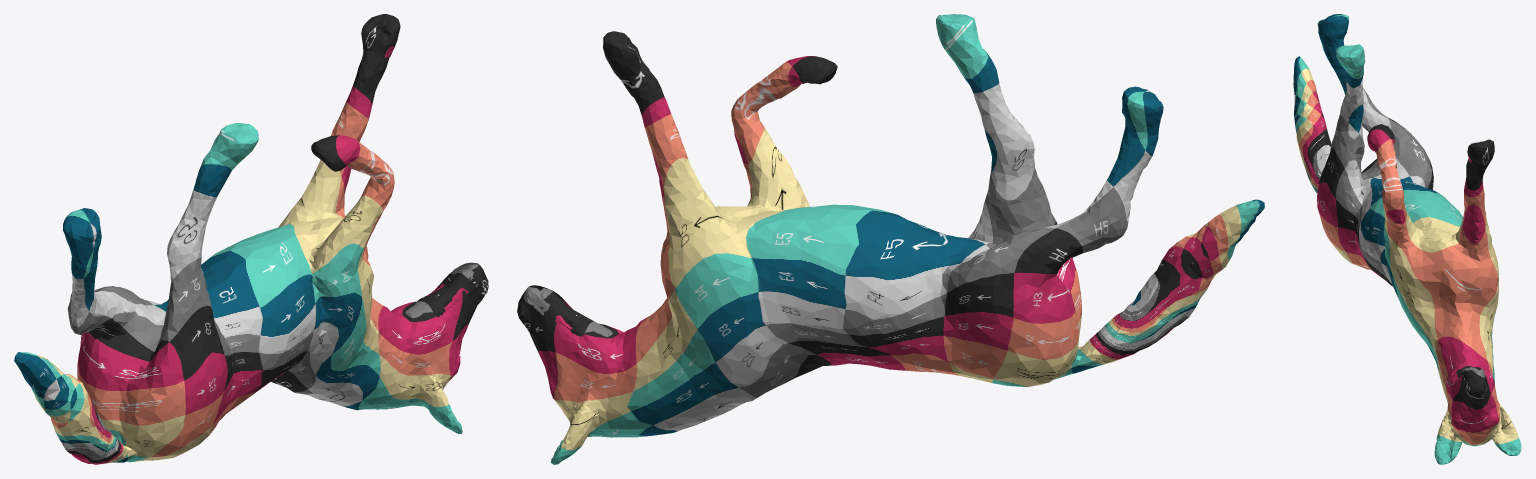
Rendered from hippo_01-horse_07.obj.
The picture shows the model from 3 angles, left to right: view 1: azimuth 30°, elevation 25°; view 2: azimuth 150°, elevation 25°; view 3: azimuth 270°, elevation 25°; orthographic projection. The views are drawn at different scales.
Parts seen in each view (by area): view 1: hippo_01-horse_07_export; view 2: hippo_01-horse_07_export; view 3: hippo_01-horse_07_export.
Boxes of the visible parts, x1,y1,x2,y2 form: hippo_01-horse_07_export: (14,14,488,464); hippo_01-horse_07_export: (517,14,1264,464); hippo_01-horse_07_export: (1293,14,1521,464).
Size of the model in its own units: 1.11 by 0.7505 by 0.4933.
